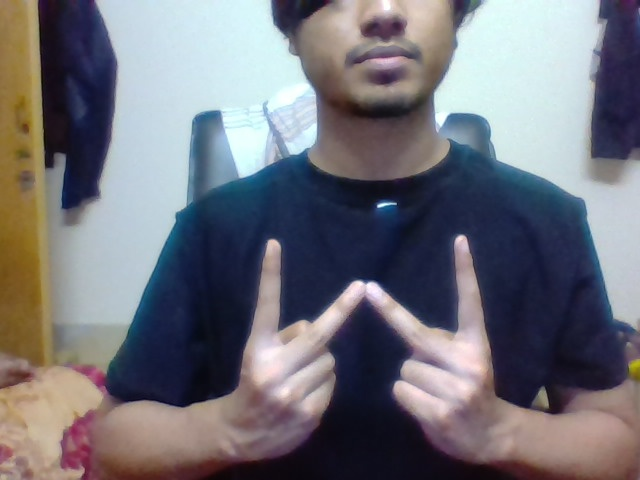W: (243, 229, 489, 355)
